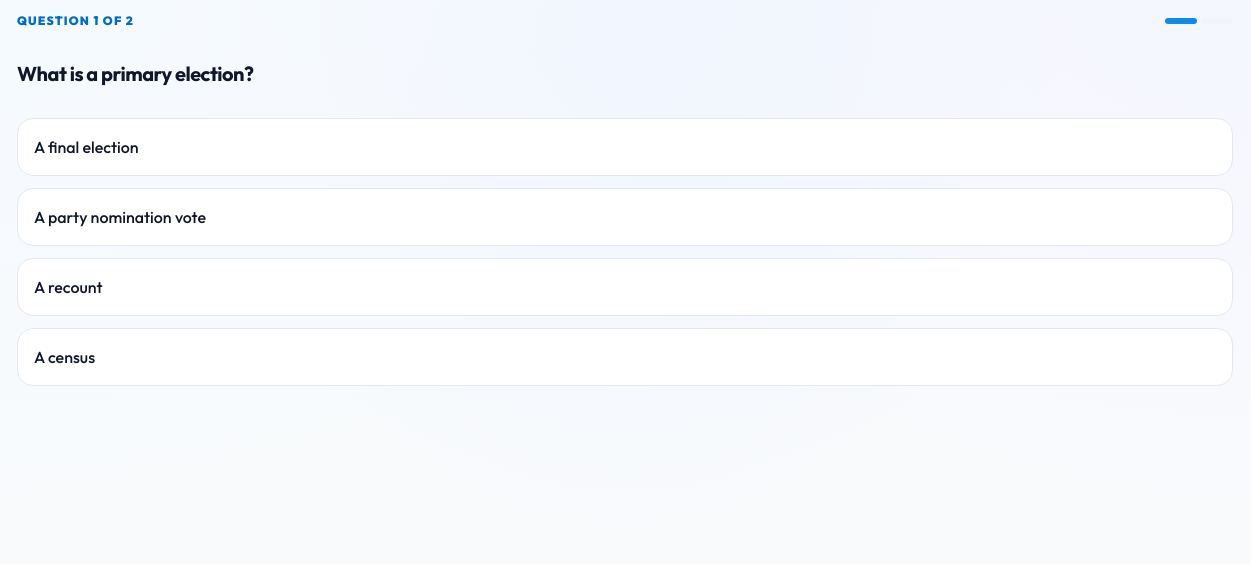
Test: QuizBlock › advances to next question on Next click
This screenshot has width=1251, height=564.
Click the button "A party nomination vote" at (120, 217), box [17,188,1233,246]
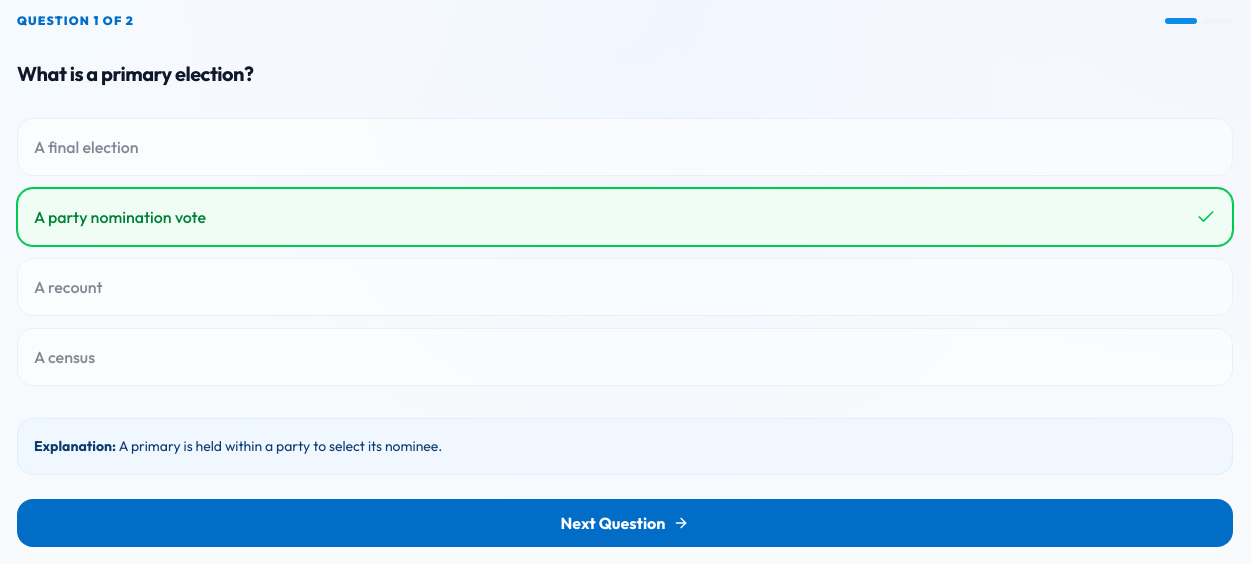
Click the button "Next Question" at (625, 523), box [17,499,1233,547]
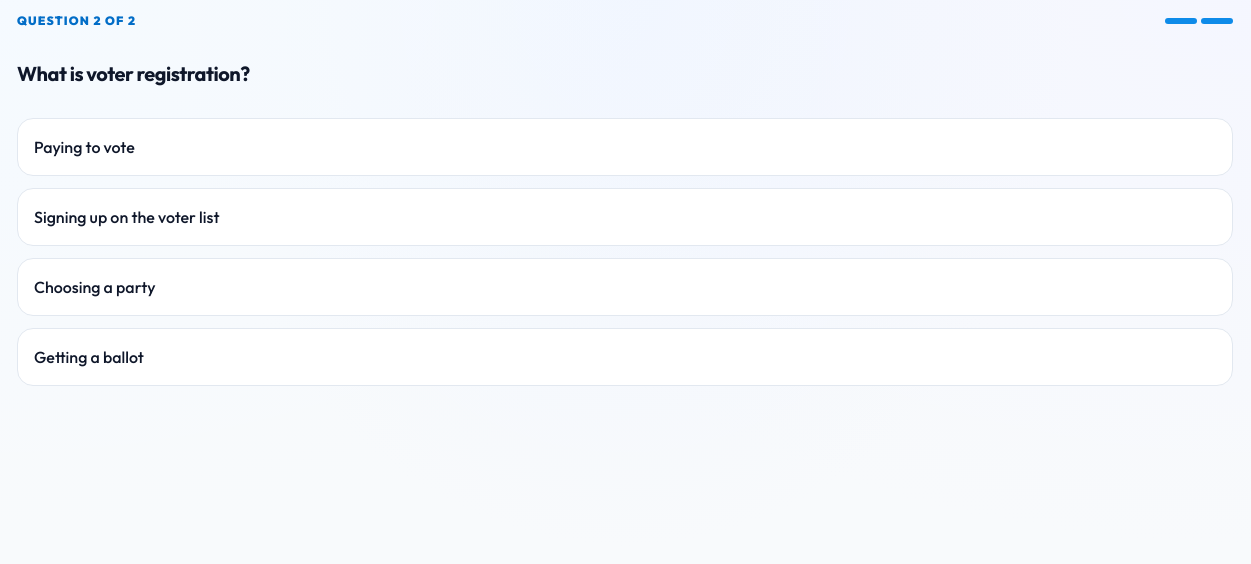
expect the heading "What is voter registration?" is shown: met, box [17,61,250,86]
